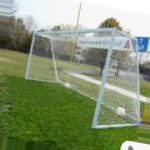goals: (24, 26, 142, 131)
